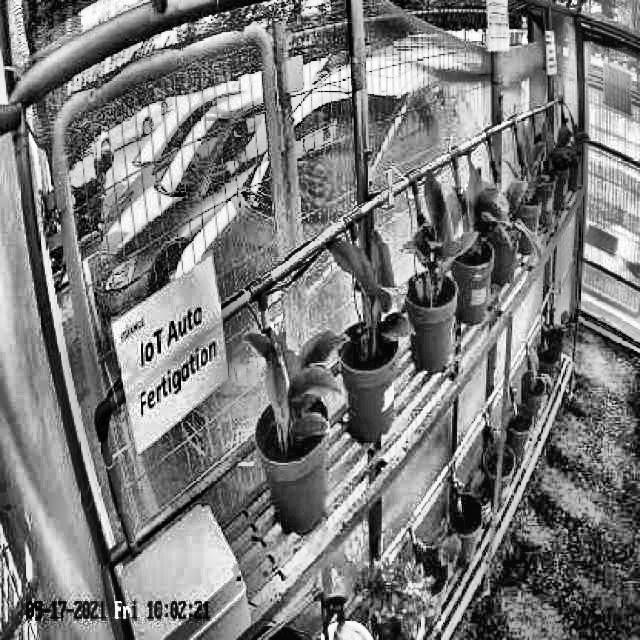plants: (240, 322, 342, 449), (326, 229, 416, 368), (400, 175, 480, 308), (454, 162, 516, 260)
